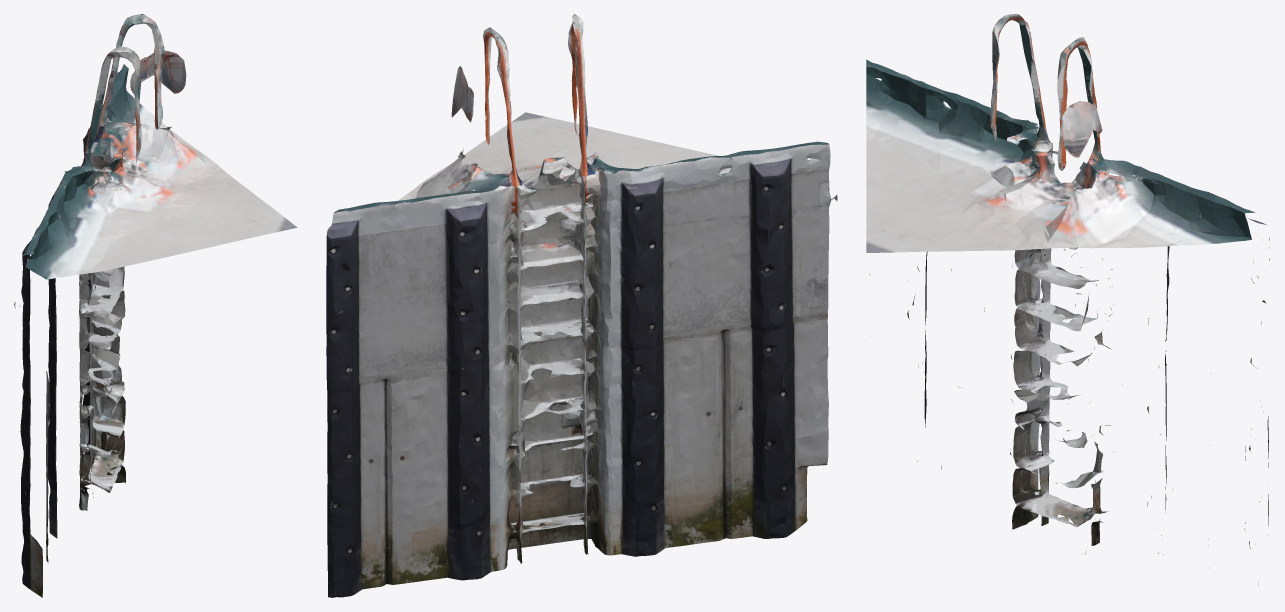
3 renders of one model, left to right at view 1: azimuth 30°, elevation 25°; view 2: azimuth 150°, elevation 25°; view 3: azimuth 270°, elevation 25°, orthographic. The views are drawn at different scales.
Bounding box in the file's own units: 2.44 × 3.86 × 2.7.
3 materials, 3 textured.
